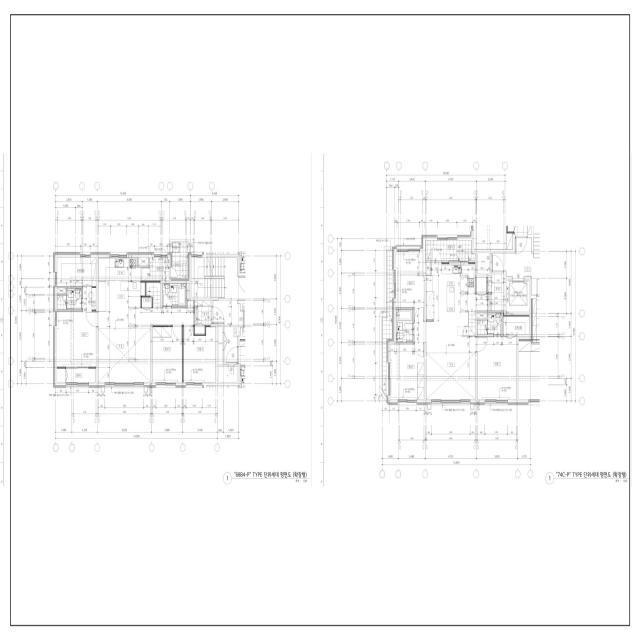space_balconi: (383, 251, 392, 396), (425, 240, 475, 261), (171, 241, 189, 278), (142, 258, 169, 281), (66, 369, 96, 382)
space_bedroom: (478, 337, 517, 400), (57, 312, 96, 367), (396, 252, 424, 320), (390, 344, 424, 399), (183, 327, 216, 382), (153, 327, 182, 382)
space_dressroom: (57, 258, 96, 286), (503, 317, 529, 335)
space_elevator: (506, 280, 529, 312)
space_elevator_hall: (492, 238, 532, 276)
space_front: (488, 274, 504, 311), (195, 301, 212, 325), (195, 326, 205, 334)
space_kitchen: (426, 264, 475, 320), (98, 258, 145, 311)
space_living_room: (414, 294, 487, 400), (98, 301, 193, 382), (477, 278, 486, 293), (142, 298, 152, 308)
space_other: (213, 298, 237, 323), (83, 288, 96, 310), (477, 253, 490, 274), (57, 369, 65, 382), (139, 258, 148, 266), (425, 262, 431, 274), (57, 288, 66, 294), (477, 313, 486, 319), (187, 283, 189, 299)
space_staircase: (192, 258, 237, 297), (146, 283, 160, 308), (462, 311, 475, 336)
space_toilet: (163, 283, 186, 306), (396, 310, 412, 342), (487, 313, 502, 334), (67, 289, 81, 309), (57, 295, 67, 309), (478, 320, 487, 334)
